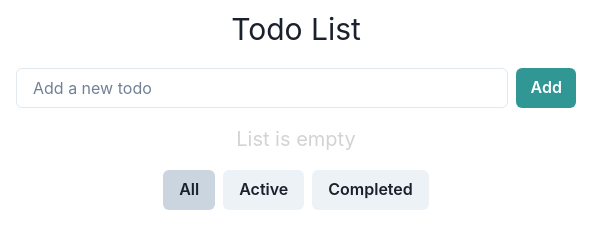
Test: TodoApp › edits a todo
The width and height of the screenshot is (593, 237).
Type "Todo to be edited" into the field with placeholder "Add a new todo". click: (262, 88)
box: [16,68,508,108]
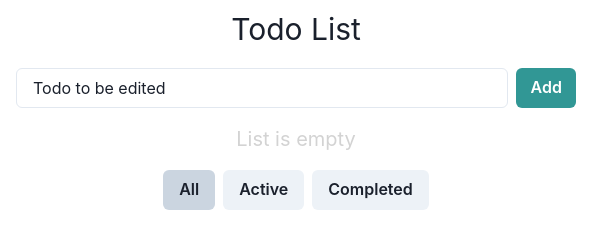
Click the button "Add". click: (546, 88)
box: [516,68,576,108]
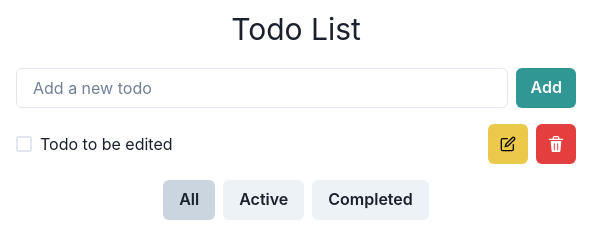
Check: the text "Todo to be edited" is shown, box [40,134,173,154]
Note: Click the edit button
Click the button named "edit". click: (508, 144)
box: [488,124,528,164]
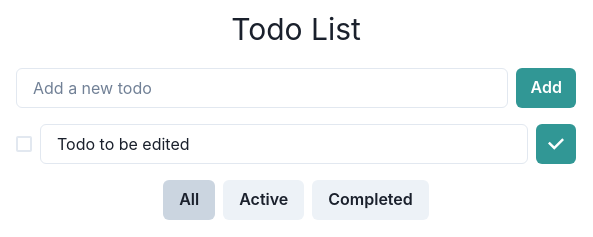
Note: Change the text
Replace the text in the field showing "Todo to be edited" with "Edited Todo". click: (284, 144)
box: [40,124,528,164]
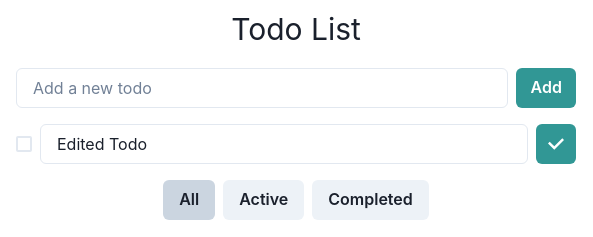
Click the button named "save". click: (556, 144)
box: [536,124,576,164]
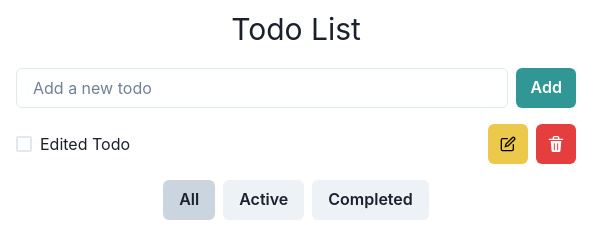
Check: the text "Todo to be edited" is not shown
Check: the text "Edited Todo" is shown, box [40,134,130,154]
